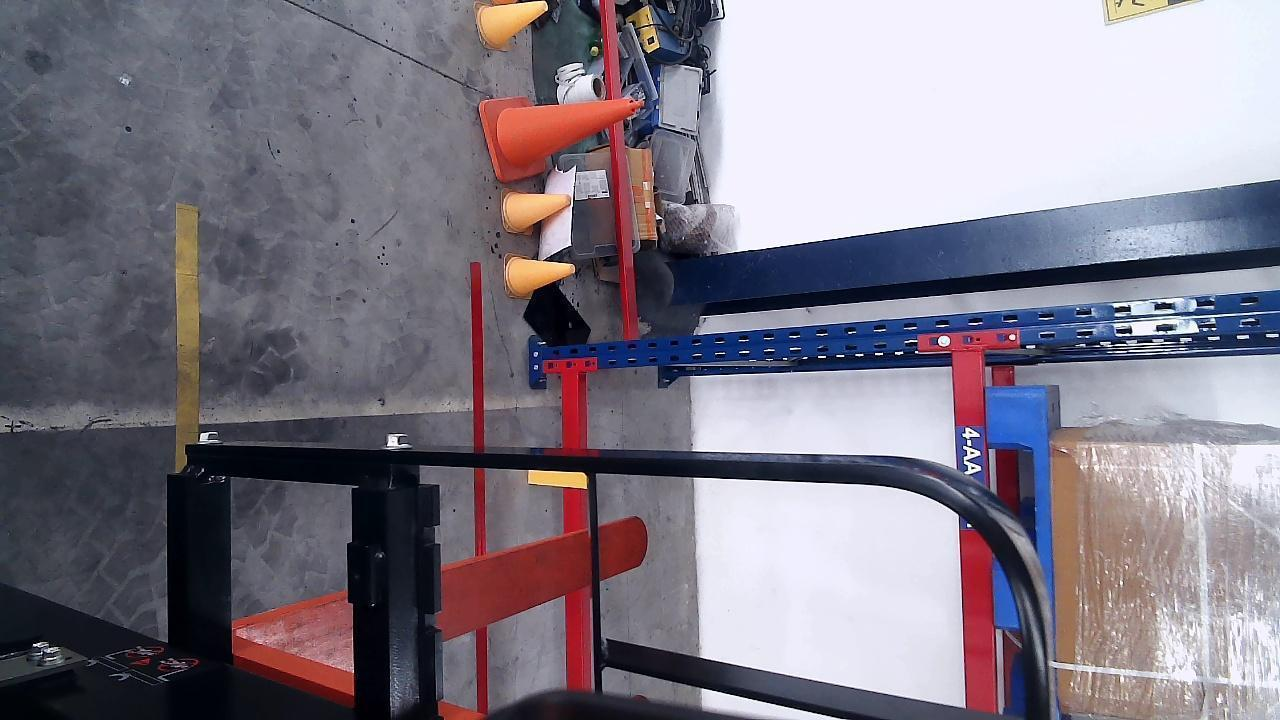red_line: (470, 259, 487, 714)
yellow_line: (173, 202, 202, 443)
